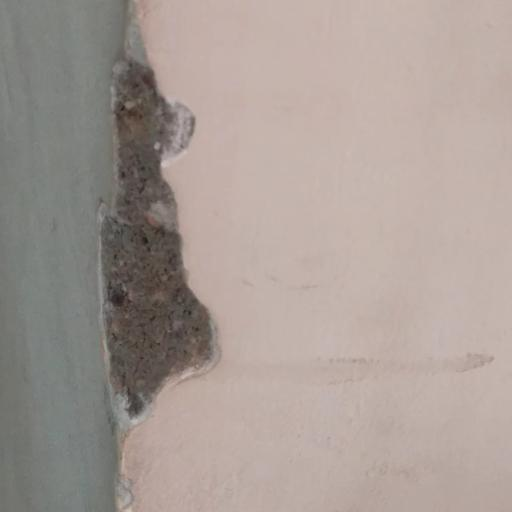spalling: (84, 40, 261, 438)
